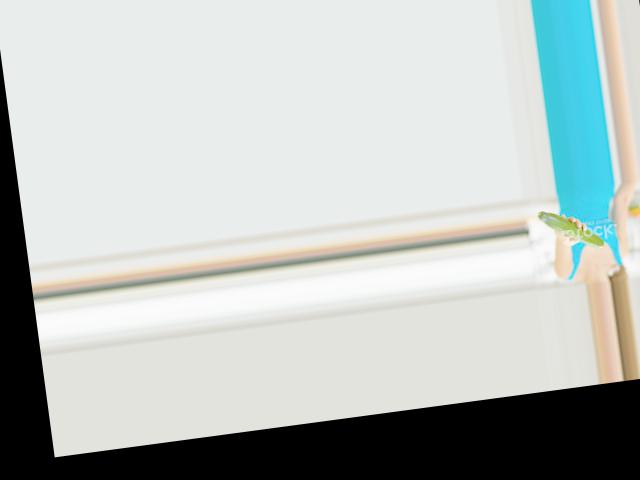cucumber: (538, 203, 605, 255)
